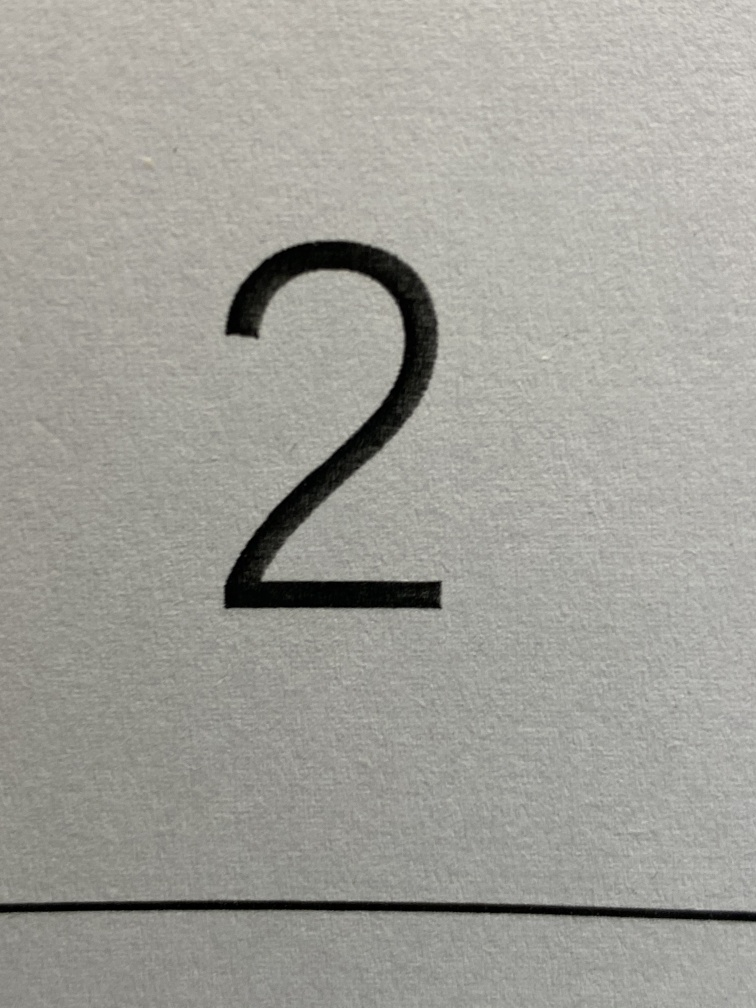two: (153, 183, 508, 675)
